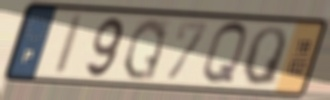7: (164, 19, 210, 83)
9: (84, 15, 125, 79)
I: (51, 12, 88, 78)
Q: (200, 19, 249, 88), (119, 16, 169, 83), (239, 24, 289, 89)
